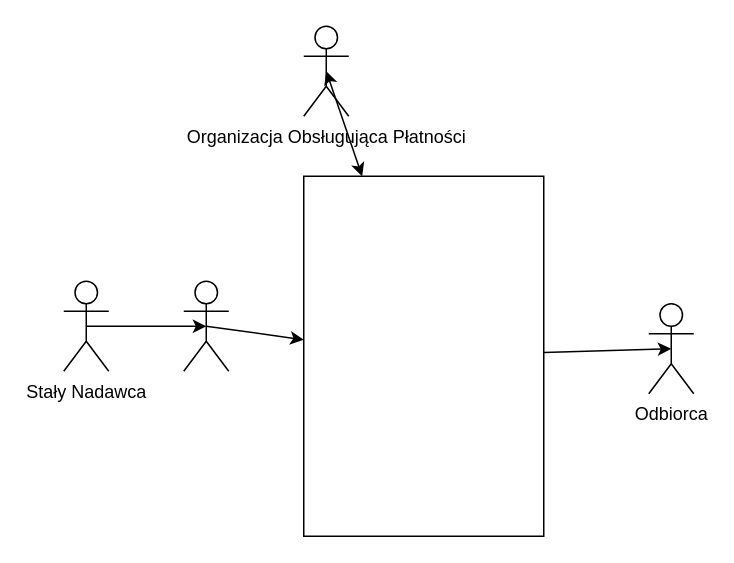
This 734x563 diagram has some shape labels left out. The box of each missing label's shape, as (x1, y1, x2, y2) in pixels:
Firma Kurierska: (302, 175, 544, 536)
Nadawca: (182, 280, 229, 371)
